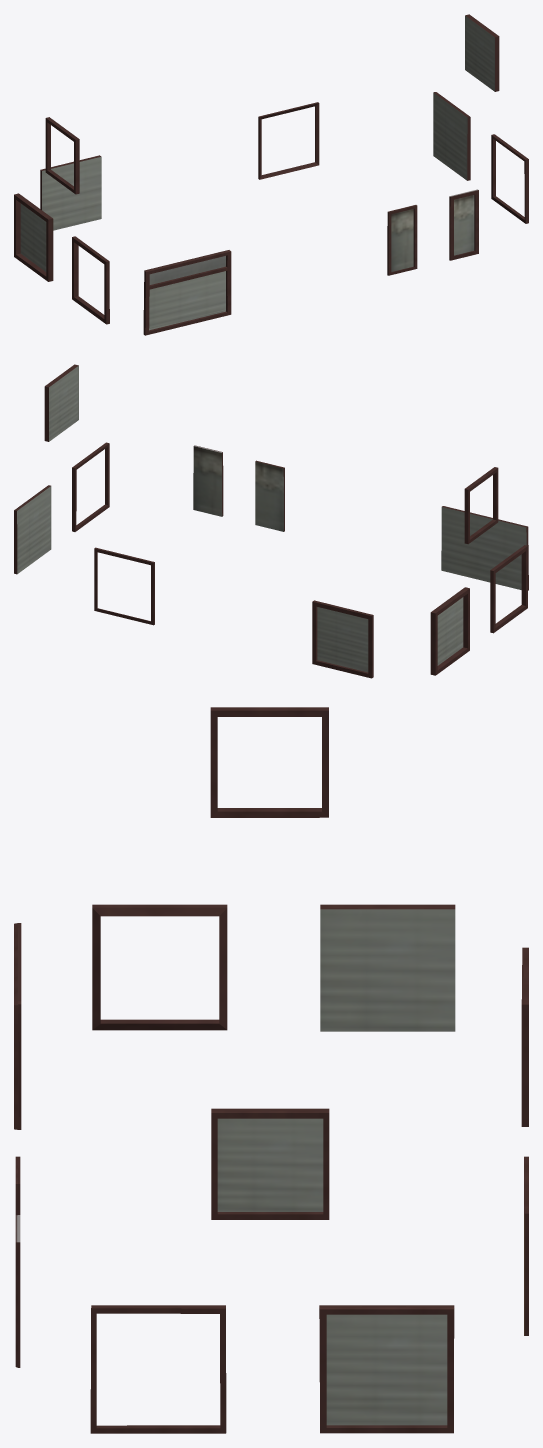
File: window.fbx
The picture shows the model from 3 angles, top to bottom: view 1: azimuth 30°, elevation 25°; view 2: azimuth 150°, elevation 25°; view 3: azimuth 270°, elevation 25°; orthographic projection. The views are drawn at different scales.
Parts seen in each view (by area): view 1: Window01; view 2: Window01; view 3: Window01.
Boxes of the visible parts, <box> form: Window01: <box>14,14,528,335</box>; Window01: <box>14,364,528,678</box>; Window01: <box>14,707,528,1433</box>.
Bounding box in the file's own units: 1199 × 444 × 643.
1 material, 1 textured.
